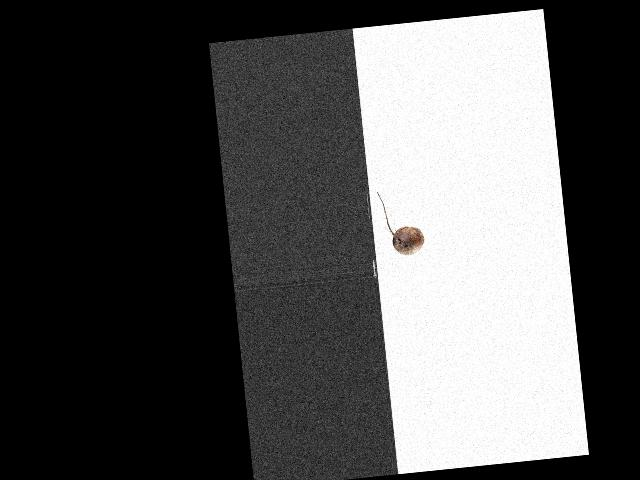beet: (376, 187, 425, 257)
